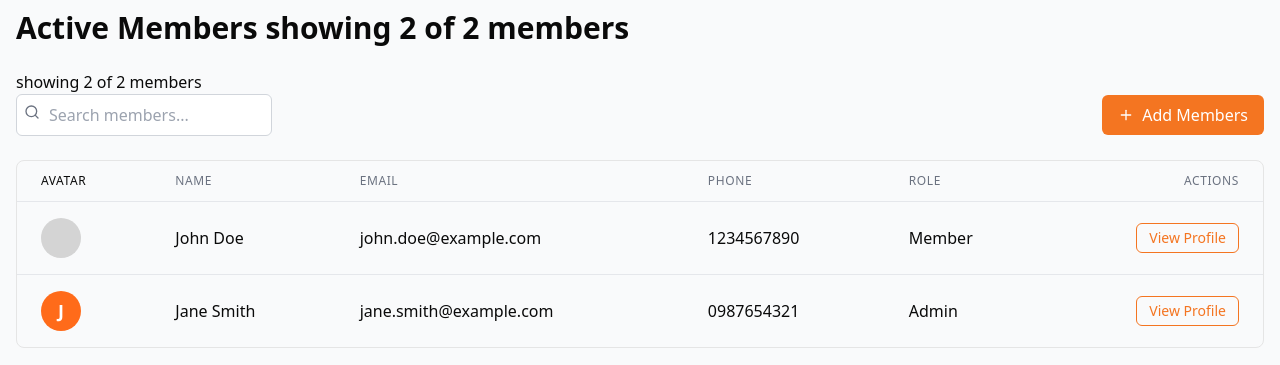
Test: AllMembersPage › displays 'No members found' when search returns no results
The image size is (1280, 365).
Expected: the text "John Doe" is shown, [151,202,336,274]
Type "nonexistent" into the field with placeholder "Search members..." at (144, 115), box [16,94,272,136]
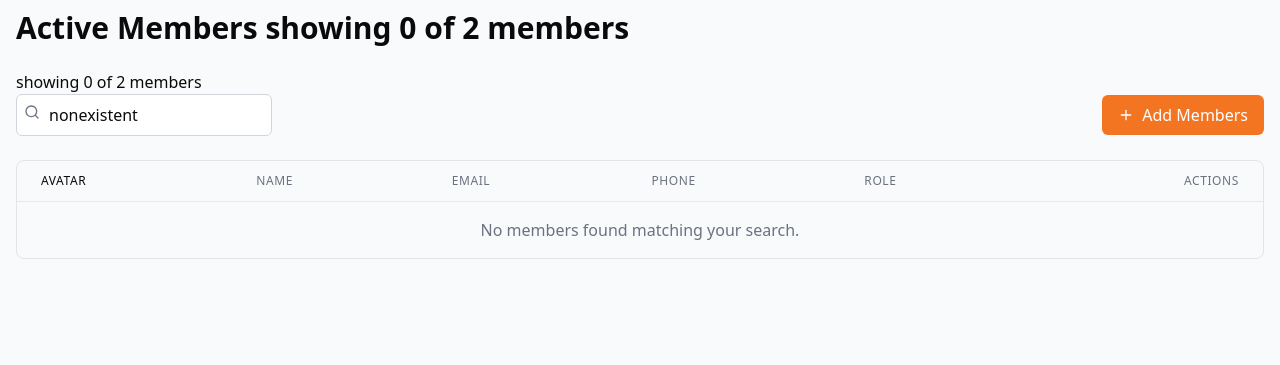
Expected: the text "No members found matching your search." is shown, [17,202,1263,258]
